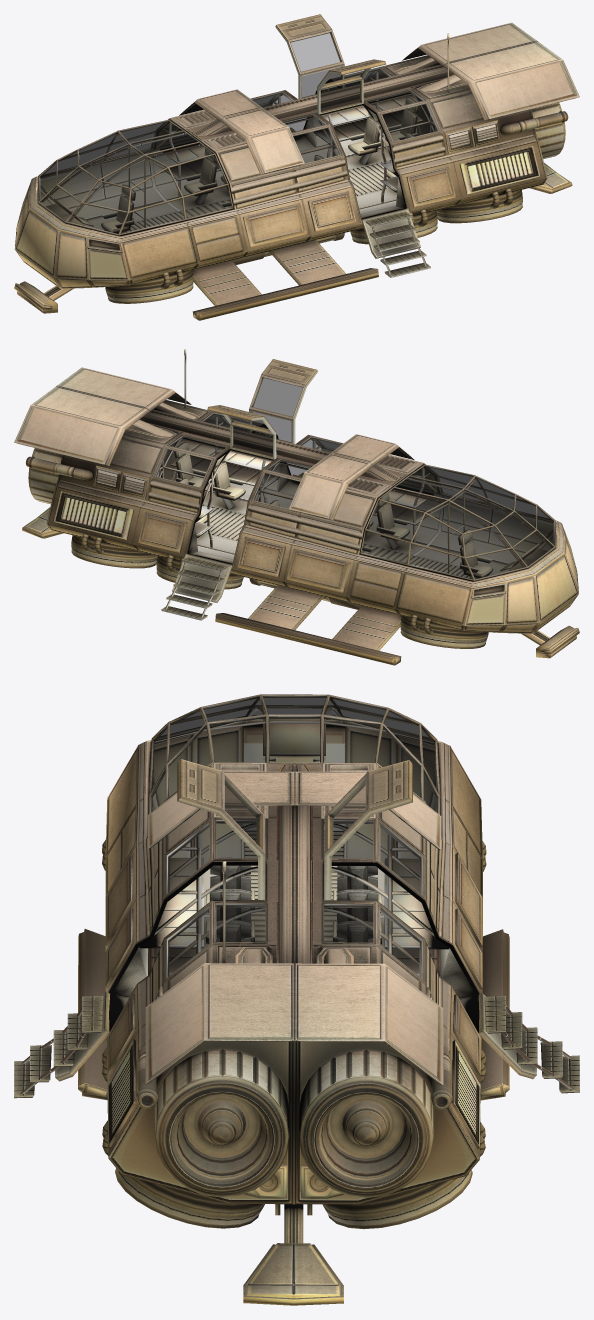
The model's file is spaceship.obj.
3 views of the same model, one above another, from view 1: azimuth 30°, elevation 25°; view 2: azimuth 150°, elevation 25°; view 3: azimuth 270°, elevation 25° (orthographic). The views are drawn at different scales.
Visible parts, largest first — view 1: Shuttle.002_Cube.006, Shuttle.000_Cube.002, Shuttle.013_Cube.012, Shuttle.009_Cube.008, Shuttle.010_Cube.009, Shuttle.011_Cube.010, Shuttle.015_Cube.014, Shuttle.008_Cube.007, Shuttle.012_Cube.011, Shuttle.024_Cube.032; view 2: Shuttle.002_Cube.006, Shuttle.000_Cube.002, Shuttle.013_Cube.012, Shuttle.009_Cube.008, Shuttle.010_Cube.009, Shuttle.011_Cube.010, Shuttle.015_Cube.014, Shuttle.008_Cube.007, Shuttle.012_Cube.011, Shuttle.024_Cube.032; view 3: Shuttle.002_Cube.006, Shuttle.024_Cube.032, Shuttle.000_Cube.002, Shuttle.013_Cube.012, Shuttle.010_Cube.009, Shuttle.009_Cube.008, Shuttle.015_Cube.014, Shuttle.011_Cube.010, Shuttle.008_Cube.007, Shuttle.012_Cube.011.
Part boxes in pixels (x1,y1,x2,y2): Shuttle.002_Cube.006: (14,22,579,288); Shuttle.000_Cube.002: (39,32,437,249); Shuttle.013_Cube.012: (36,68,438,236); Shuttle.009_Cube.008: (14,162,572,320); Shuttle.010_Cube.009: (275,14,449,277); Shuttle.011_Cube.010: (42,72,434,274); Shuttle.015_Cube.014: (105,188,522,303); Shuttle.008_Cube.007: (37,119,233,236); Shuttle.012_Cube.011: (101,97,419,233); Shuttle.024_Cube.032: (500,102,568,158); Shuttle.002_Cube.006: (14,367,578,633); Shuttle.000_Cube.002: (156,377,554,594); Shuttle.013_Cube.012: (155,413,557,582); Shuttle.009_Cube.008: (22,507,579,665); Shuttle.010_Cube.009: (161,349,317,620); Shuttle.011_Cube.010: (158,417,551,617); Shuttle.015_Cube.014: (71,534,488,648); Shuttle.008_Cube.007: (359,464,555,581); Shuttle.012_Cube.011: (174,442,493,578); Shuttle.024_Cube.032: (26,448,93,504); Shuttle.002_Cube.006: (105,741,482,1215); Shuttle.024_Cube.032: (136,1045,452,1197); Shuttle.000_Cube.002: (150,695,438,976); Shuttle.013_Cube.012: (109,718,479,1032); Shuttle.010_Cube.009: (14,759,579,1198); Shuttle.009_Cube.008: (78,929,509,1305); Shuttle.015_Cube.014: (101,839,486,1229); Shuttle.011_Cube.010: (20,706,573,1093); Shuttle.008_Cube.007: (148,694,440,814); Shuttle.012_Cube.011: (206,857,381,944).
Size of the model in its own units: 13.32 by 4.6 by 7.
